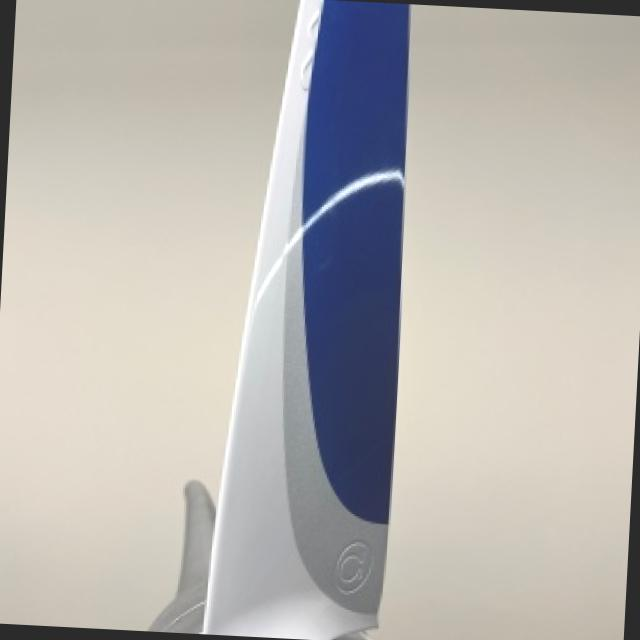healthy: (207, 0, 410, 639)
